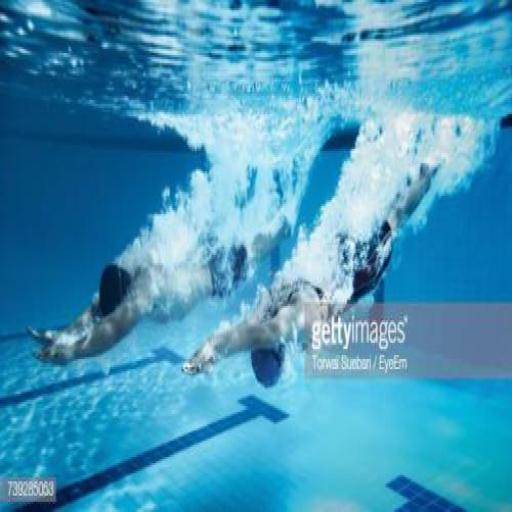swimming: (180, 153, 442, 392)
